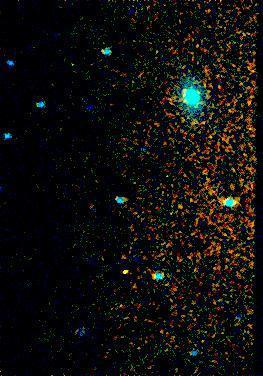star: (110, 258, 140, 288)
